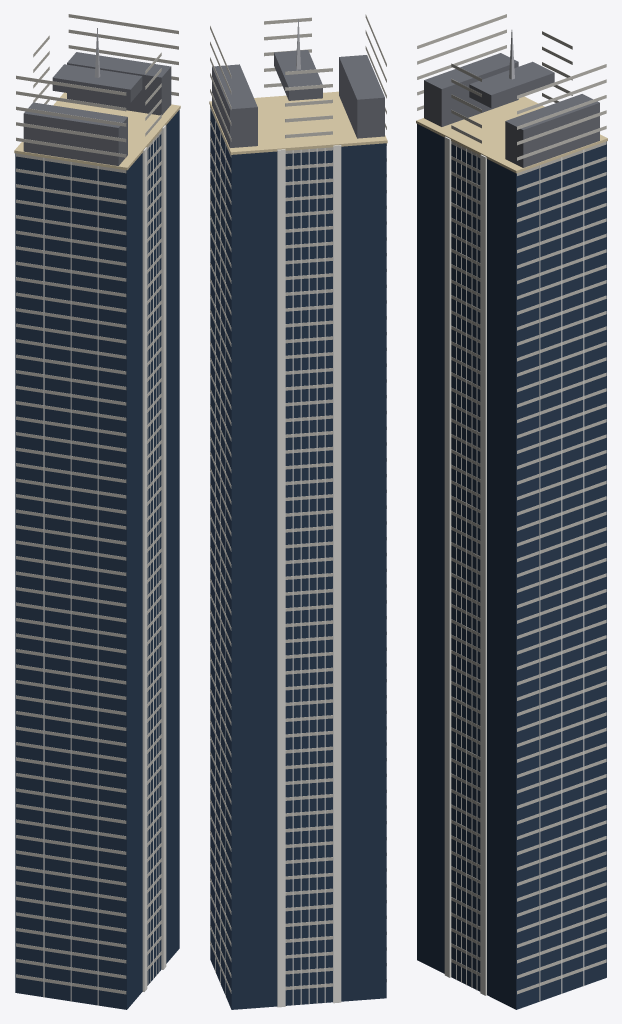
Rendered from millennium-tower-detailed.glb.
3 views of the same model, side by side, from view 1: azimuth 30°, elevation 25°; view 2: azimuth 150°, elevation 25°; view 3: azimuth 270°, elevation 25° (orthographic). The views are drawn at different scales.
Parts seen in each view (by area): view 1: Shaft_Glass, Frame_-1_7, Frame_-1_-7, CrownBox_-17, CrownBox_17, Crown_GoldRing, Crown_Plinth, MullionS_-1_80, MullionS_-1_-80, MullionS_-1_0, MullionB_-1_44, MullionB_-1_-44 (+65 smaller); view 2: Shaft_Glass, Frame_1_7, Frame_1_-7, Crown_GoldRing, CrownBox_-17, CrownBox_17, MullionB_1_44, MullionB_1_-22, MullionB_1_0, MullionB_1_22, MullionB_1_-44, Crown_Plinth (+3 smaller); view 3: Shaft_Glass, Frame_-1_-7, Frame_-1_7, CrownBox_17, Crown_GoldRing, CrownBox_-17, Crown_Plinth, MullionS_1_80, MullionS_1_-80, MullionS_1_0, MullionB_-1_44, MullionB_-1_22 (+3 smaller).
Boxes of the visible parts, x1,y1,x2,y2 form: Shaft_Glass: (15,110,179,1009); Frame_-1_7: (161,125,166,969); Frame_-1_-7: (142,147,147,991); CrownBox_-17: (23,102,127,165); CrownBox_17: (67,52,171,115); Crown_GoldRing: (14,92,180,170); Crown_Plinth: (52,64,142,102); MullionS_-1_80: (43,157,44,997); MullionS_-1_-80: (97,166,98,1005); MullionS_-1_0: (70,162,71,1001); MullionB_-1_44: (158,133,159,972); MullionB_-1_-44: (147,146,148,985); Shaft_Glass: (210,109,386,1009); Frame_1_7: (277,149,285,1007); Frame_1_-7: (333,145,341,1003); Crown_GoldRing: (209,91,387,154); CrownBox_-17: (339,55,384,138); CrownBox_17: (212,64,257,147); MullionB_1_44: (292,150,293,1005); MullionB_1_-22: (316,148,317,1003); MullionB_1_0: (308,149,309,1004); MullionB_1_22: (300,149,301,1004); MullionB_1_-44: (324,148,325,1002); Crown_Plinth: (274,50,322,100); Shaft_Glass: (417,124,606,1009); Frame_-1_-7: (444,136,451,977); Frame_-1_7: (480,154,486,995); CrownBox_17: (505,94,599,167); Crown_GoldRing: (416,96,607,173); CrownBox_-17: (424,53,518,126); Crown_Plinth: (469,61,554,107); MullionS_1_80: (583,149,584,986); MullionS_1_-80: (539,165,540,1001); MullionS_1_0: (561,157,562,993); MullionB_-1_44: (476,153,477,990); MullionB_-1_22: (471,151,472,987).
Size of what is drawn, in the model's own units: 54.71 by 289 by 53.5.
